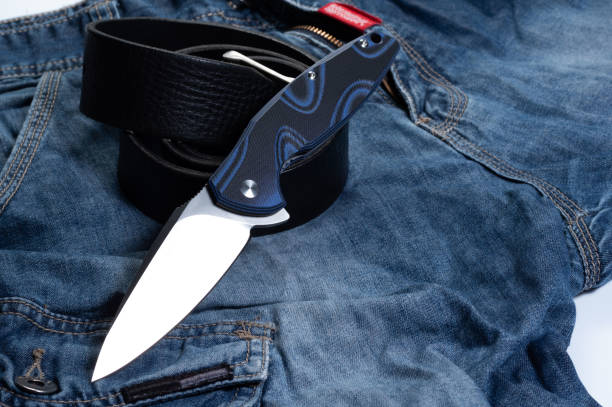knife: (89, 25, 400, 384)
